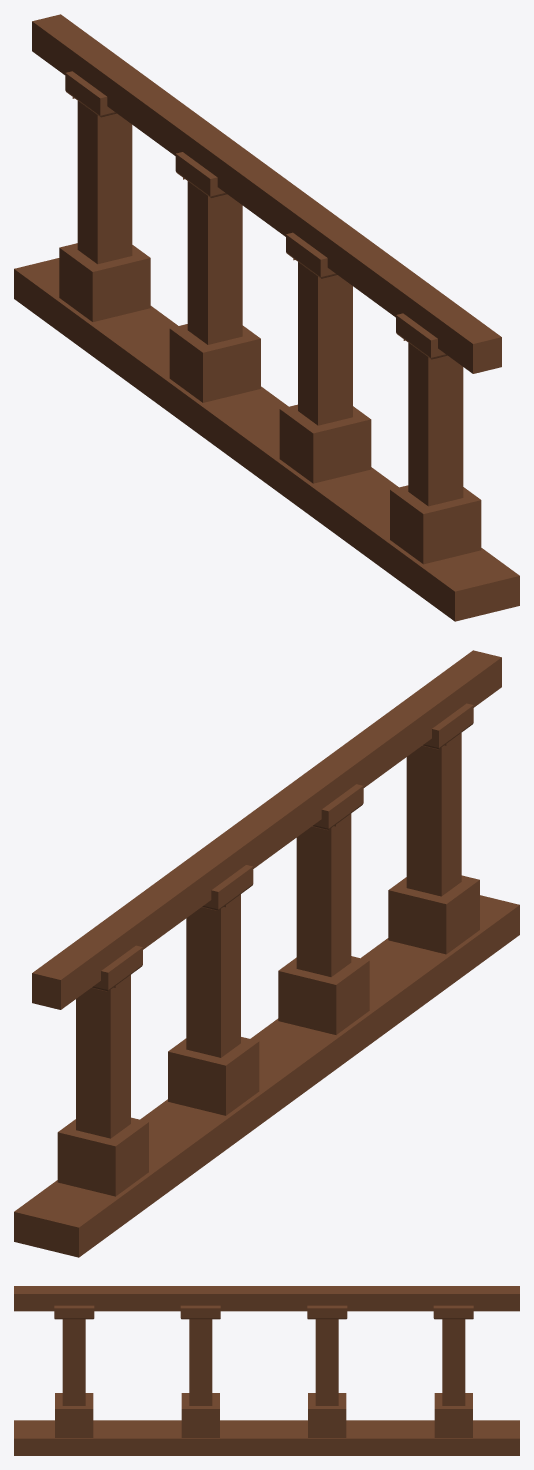
The model's file is Fence_Wood_1.fbx.
The picture shows the model from 3 angles, top to bottom: view 1: azimuth 30°, elevation 25°; view 2: azimuth 150°, elevation 25°; view 3: azimuth 270°, elevation 25°; orthographic projection. The views are drawn at different scales.
Visible parts, largest first — view 1: Fence_Wood_1; view 2: Fence_Wood_1; view 3: Fence_Wood_1.
Boxes of the visible parts, x1,y1,x2,y2 form: Fence_Wood_1: [14, 14, 519, 621]; Fence_Wood_1: [14, 650, 519, 1257]; Fence_Wood_1: [14, 1286, 519, 1455].
Size of the model in its own units: 34.03 by 137 by 400.
